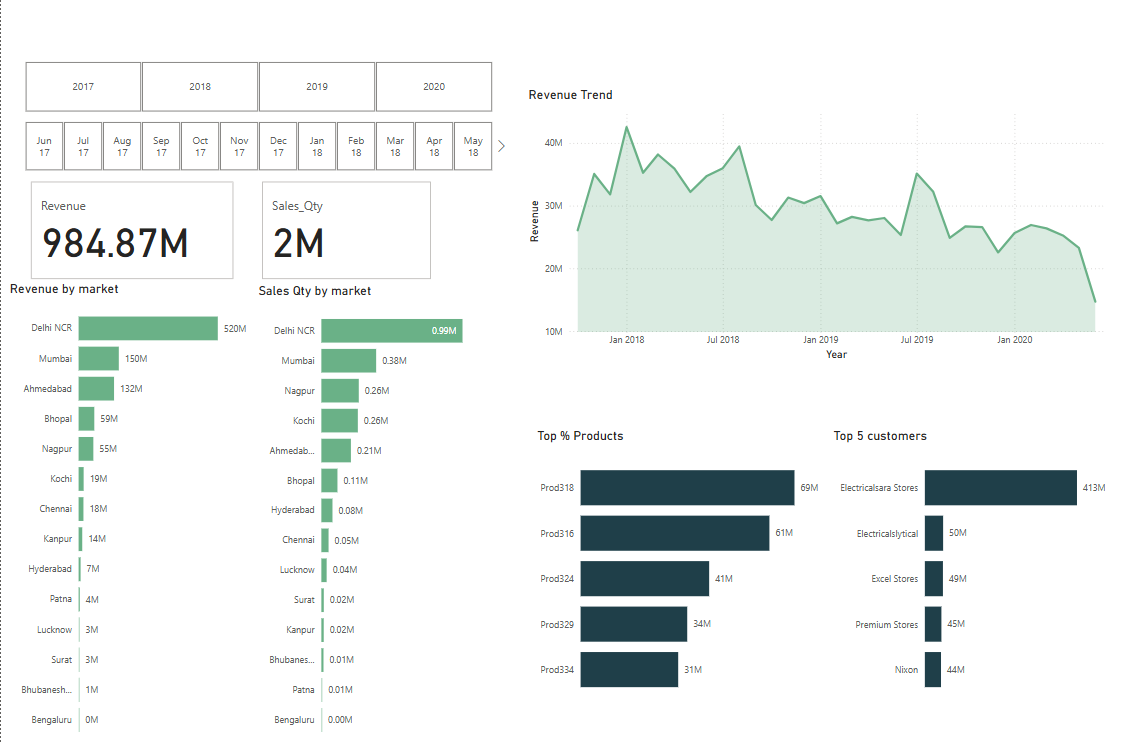

The dashboard page shown, as its layout file describes it:
{"tool":"powerbi","page":{"name":"Page 1","canvas":[1500,1000],"ordinal":0},"visuals":[{"type":"cardVisual","fields":{"Data":["BaseMeasures.Revenue"]},"box":[35,240,280,140],"z":0},{"type":"cardVisual","fields":{"Data":["BaseMeasures.Sales_Qty"]},"box":[343.3,240,235,140],"z":1000},{"type":"barChart","title":"Top 5 customers","fields":{"Y":["BaseMeasures.Revenue"],"Category":["sales customers.custmer_name"]},"box":[1105,573.3,395,376.7],"z":2000},{"type":"slicer","fields":{"Values":["sales date.year"]},"box":[6.7,78.3,671.7,80],"z":3000},{"type":"slicer","fields":{"Values":["sales date.cy_date"]},"box":[6.7,158.3,671.7,78.3],"z":4000},{"type":"barChart","title":"Revenue by market","fields":{"Y":["BaseMeasures.Revenue"],"Category":["sales markets.markets_name"]},"box":[6.7,376.7,336.7,623.3],"z":5000},{"type":"barChart","title":"Sales Qty by market","fields":{"Y":["BaseMeasures.Sales_Qty"],"Category":["sales markets.markets_name"]},"box":[338.3,380,305,620],"z":6000},{"type":"barChart","title":"Top % Products","fields":{"Y":["BaseMeasures.Revenue"],"Category":["sales transactions.product_code"]},"box":[710,573.3,395,376.7],"z":7000},{"type":"lineChart","title":"Revenue Trend","fields":{"Y":["BaseMeasures.Revenue"],"Category":["sales date.cy_date.Variation.Date Hierarchy.Year","sales date.cy_date.Variation.Date Hierarchy.Quarter","sales date.cy_date.Variation.Date Hierarchy.Month","sales date.cy_date.Variation.Date Hierarchy.Day"]},"box":[698.3,118.3,790,370],"z":8000}]}

Visuals, with their boxes in screenshot pixels (x1, y1, x2, y2), scaled from the page's 1500x1000 canvas onto the 1123x744 screenshot:
cardVisual - BaseMeasures.Revenue: (x1=26, y1=179, x2=236, y2=283)
cardVisual - BaseMeasures.Sales_Qty: (x1=257, y1=179, x2=433, y2=283)
"Top 5 customers" barChart: (x1=827, y1=427, x2=1122, y2=707)
slicer - sales date.year: (x1=5, y1=58, x2=508, y2=118)
slicer - sales date.cy_date: (x1=5, y1=118, x2=508, y2=176)
"Revenue by market" barChart: (x1=5, y1=280, x2=257, y2=743)
"Sales Qty by market" barChart: (x1=253, y1=283, x2=482, y2=743)
"Top % Products" barChart: (x1=532, y1=427, x2=827, y2=707)
"Revenue Trend" lineChart: (x1=523, y1=88, x2=1114, y2=363)
